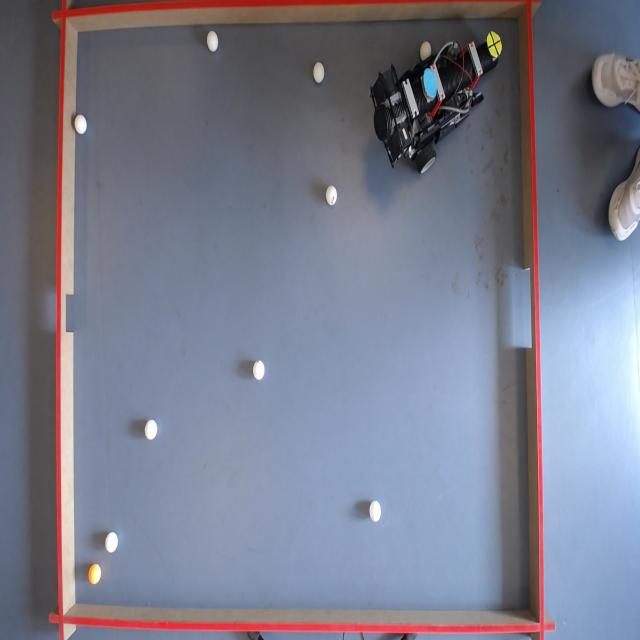orange: (89, 564, 103, 586)
robot: (366, 33, 508, 177)
robot-front: (486, 31, 504, 60)
robot-rear: (422, 68, 440, 100)
white: (144, 419, 158, 441), (105, 531, 119, 553), (252, 360, 266, 381), (74, 115, 88, 136), (313, 62, 326, 84), (368, 502, 381, 524), (324, 185, 338, 205), (207, 31, 220, 52), (419, 40, 432, 60)
